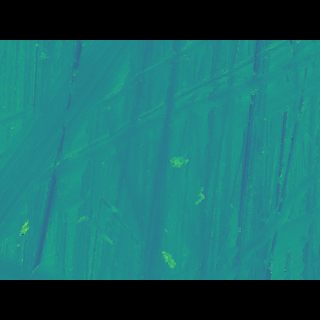Loch: (0, 70, 139, 222), (231, 166, 319, 240)
